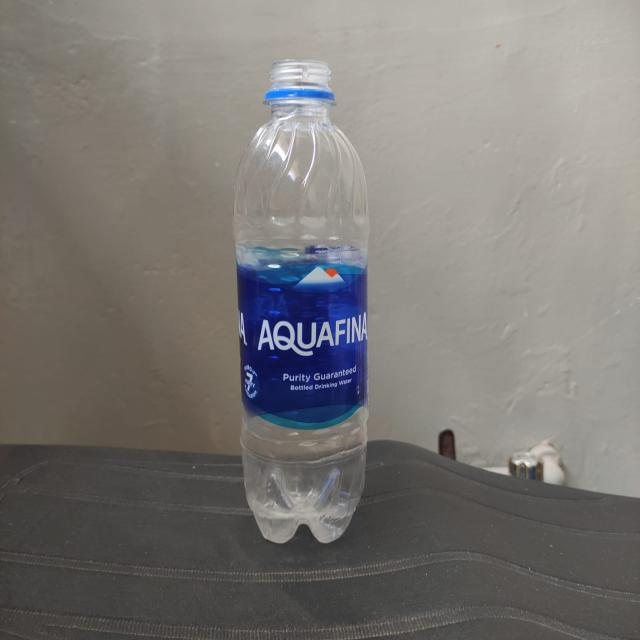bottle: (226, 56, 378, 550)
label: (230, 242, 376, 434)
